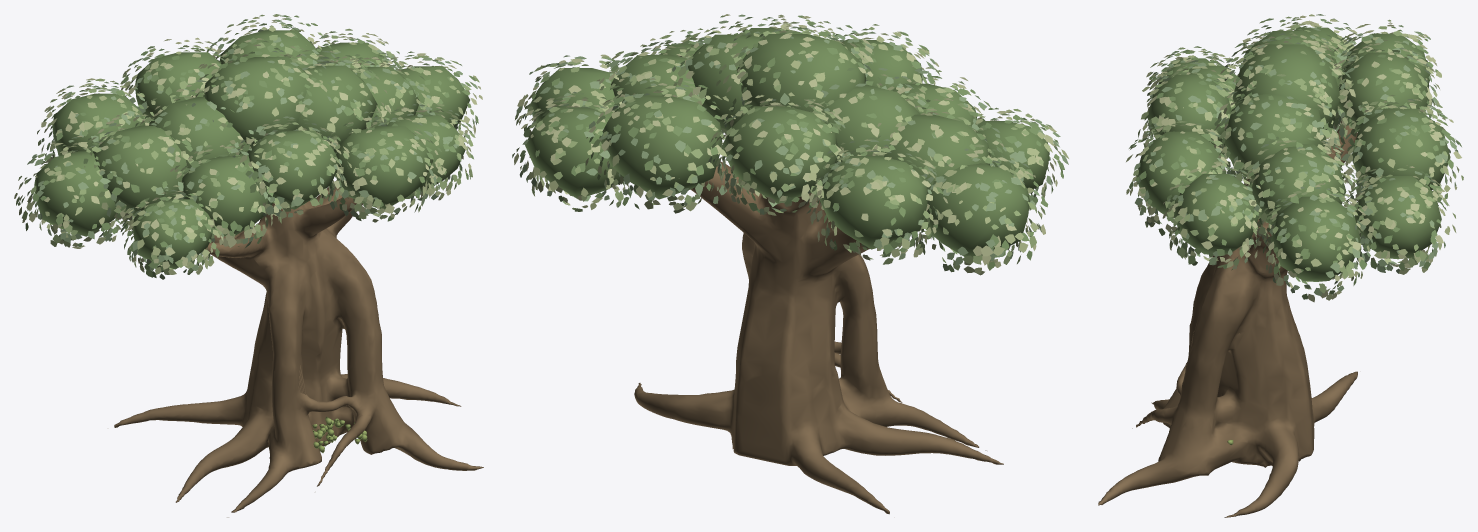
Rendered from glade-oak.glb.
3 renders of one model, left to right at view 1: azimuth 30°, elevation 25°; view 2: azimuth 150°, elevation 25°; view 3: azimuth 270°, elevation 25°, orthographic. The views are drawn at different scales.
Parts seen in each view (by area): view 1: Glade_Canopy_Core, Glade_Trunk, Glade_Canopy, Root_Moss; view 2: Glade_Canopy_Core, Glade_Trunk, Glade_Canopy; view 3: Glade_Canopy_Core, Glade_Canopy, Glade_Trunk.
Boxes of the visible parts, <box> form: Glade_Canopy_Core: <box>34,30,469,269</box>; Glade_Trunk: <box>114,180,483,517</box>; Glade_Canopy: <box>14,14,482,279</box>; Root_Moss: <box>312,417,367,452</box>; Glade_Canopy_Core: <box>525,28,1049,257</box>; Glade_Trunk: <box>634,162,1003,514</box>; Glade_Canopy: <box>512,14,1068,275</box>; Glade_Canopy_Core: <box>1136,27,1450,281</box>; Glade_Canopy: <box>1126,14,1463,302</box>; Glade_Trunk: <box>1098,117,1357,517</box>.
Bounding box in the file's own units: 9.17 × 7.78 × 6.25.
